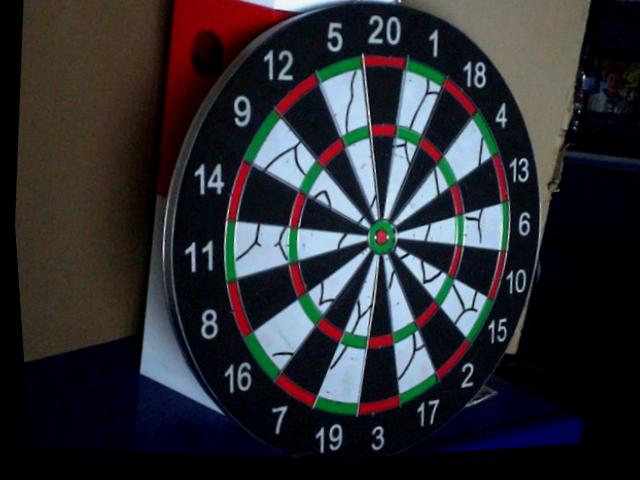single_14: (239, 172, 298, 226), (302, 199, 361, 232)
single_20: (370, 73, 400, 125), (374, 136, 393, 212)
single_3: (364, 346, 398, 402), (372, 261, 390, 334)
single_4: (400, 171, 448, 221), (447, 124, 490, 168)
